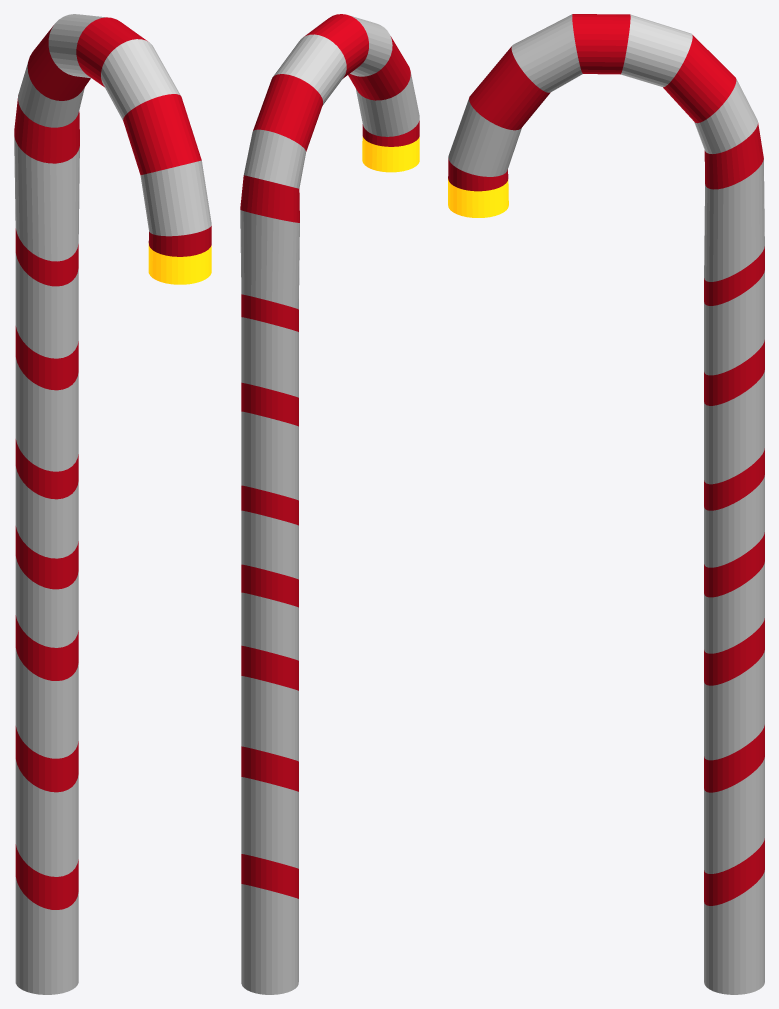
Rendered from candyLight.fbx.
The picture shows the model from 3 angles, left to right: view 1: azimuth 30°, elevation 25°; view 2: azimuth 150°, elevation 25°; view 3: azimuth 270°, elevation 25°; orthographic projection. The views are drawn at different scales.
Visible parts, largest first — view 1: Circle; view 2: Circle; view 3: Circle.
Boxes of the visible parts, left/top/right/bottom form: Circle: left=14, top=14, right=211, bottom=994; Circle: left=240, top=14, right=419, bottom=994; Circle: left=448, top=14, right=764, bottom=994.
Size of the model in its own units: 0.1252 by 2.05 by 0.6088.
